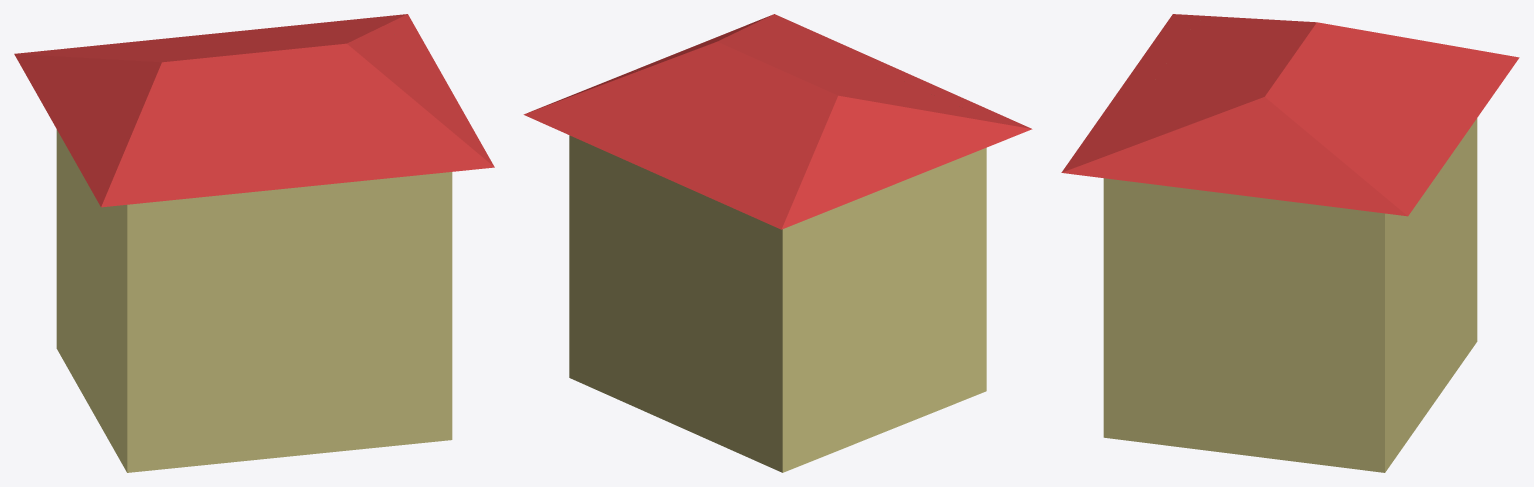
3 renders of one model, left to right at view 1: azimuth 30°, elevation 25°; view 2: azimuth 150°, elevation 25°; view 3: azimuth 270°, elevation 25°, orthographic. The views are drawn at different scales.
Visible parts, largest first — view 1: group_5, group_3, group_4; view 2: group_5, group_3, group_4; view 3: group_5, group_3, group_4.
Boxes of the visible parts, x1,y1,x2,y2 form: group_5: [56, 129, 452, 472]; group_3: [14, 14, 494, 203]; group_4: [14, 14, 493, 207]; group_5: [569, 135, 986, 472]; group_3: [523, 14, 985, 229]; group_4: [534, 14, 1032, 229]; group_5: [1103, 118, 1477, 472]; group_3: [1061, 16, 1519, 216]; group_4: [1062, 14, 1407, 216].
Size of the model in its own units: 14 by 13.41 by 10.66.
